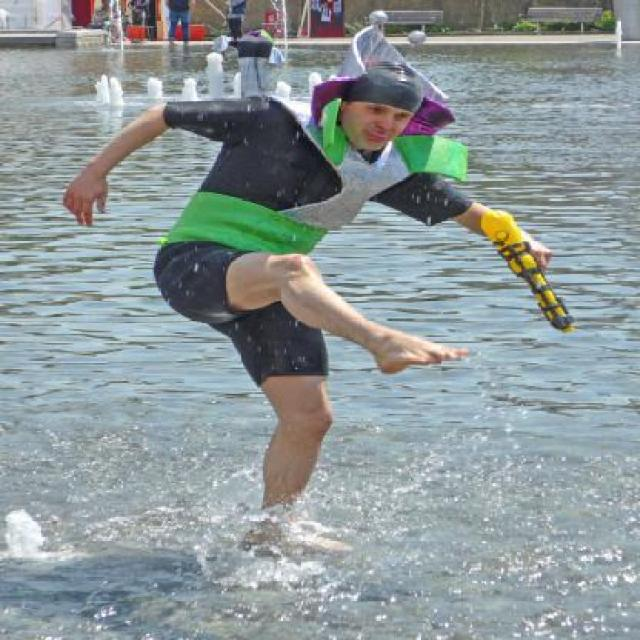Person: (125, 60, 498, 518)
